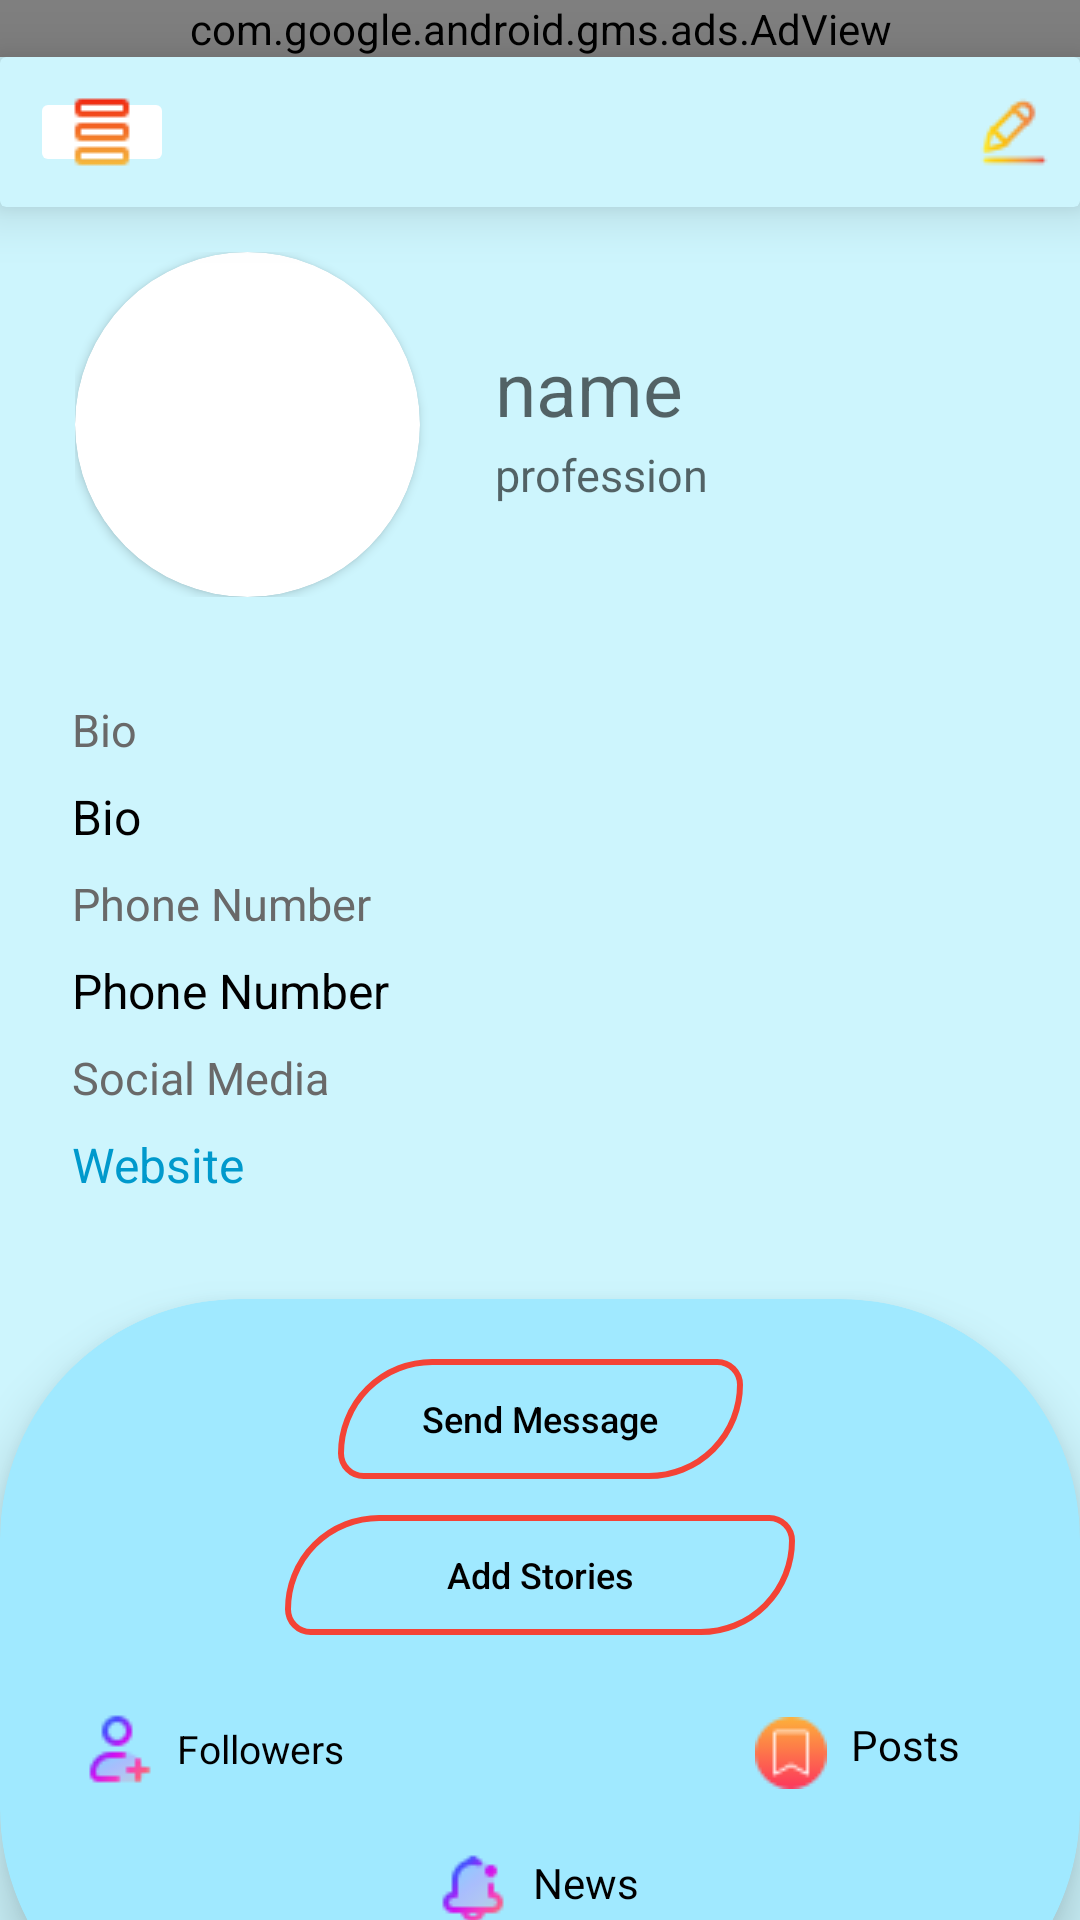

Locate icon controls on the screen. Image size 1080x1920, boxes as detection(x1, y1, x2, y2).
edit: detection(981, 100, 1047, 165)
menu: detection(42, 98, 162, 166)
